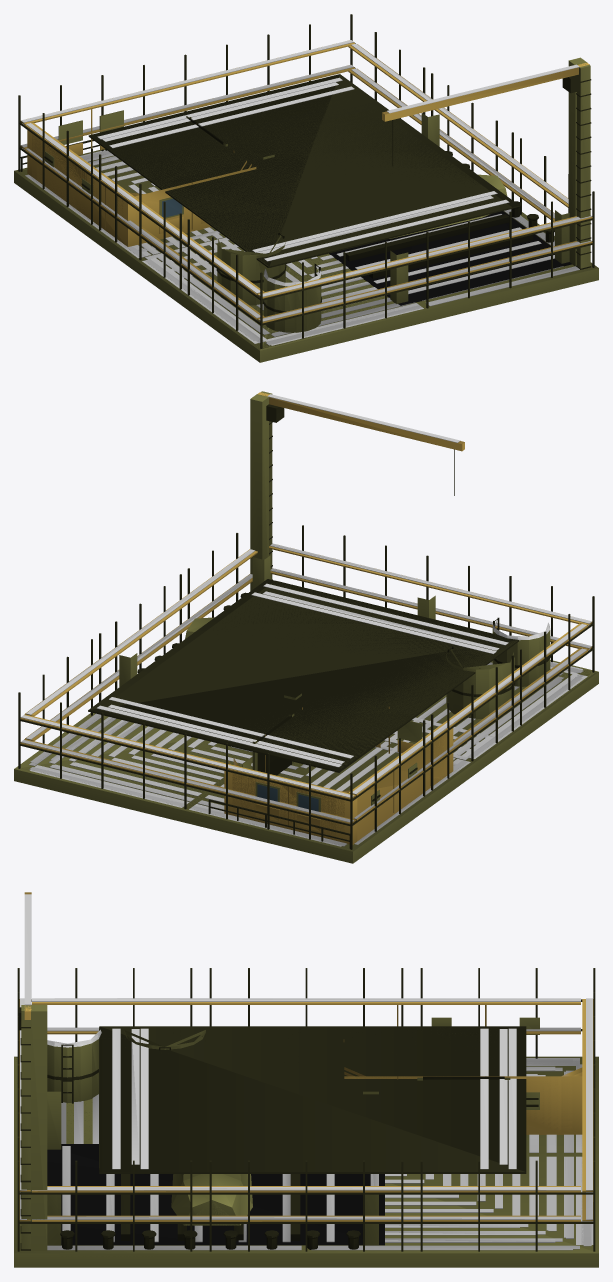
The model's file is meridian_shipyard_scaffolding.glb.
The picture shows the model from 3 angles, top to bottom: view 1: azimuth 30°, elevation 25°; view 2: azimuth 150°, elevation 25°; view 3: azimuth 270°, elevation 25°; orthographic projection. The views are drawn at different scales.
Visible parts, largest first — view 1: body (×3); view 2: body (×3); view 3: body (×3).
Boxes of the visible parts, left/top/right/bottom form: body (×3): left=14, top=14, right=598, bottom=362; body (×3): left=14, top=391, right=598, bottom=863; body (×3): left=14, top=892, right=598, bottom=1267.
Size of the model in its own units: 14.8 by 8.92 by 18.6.
